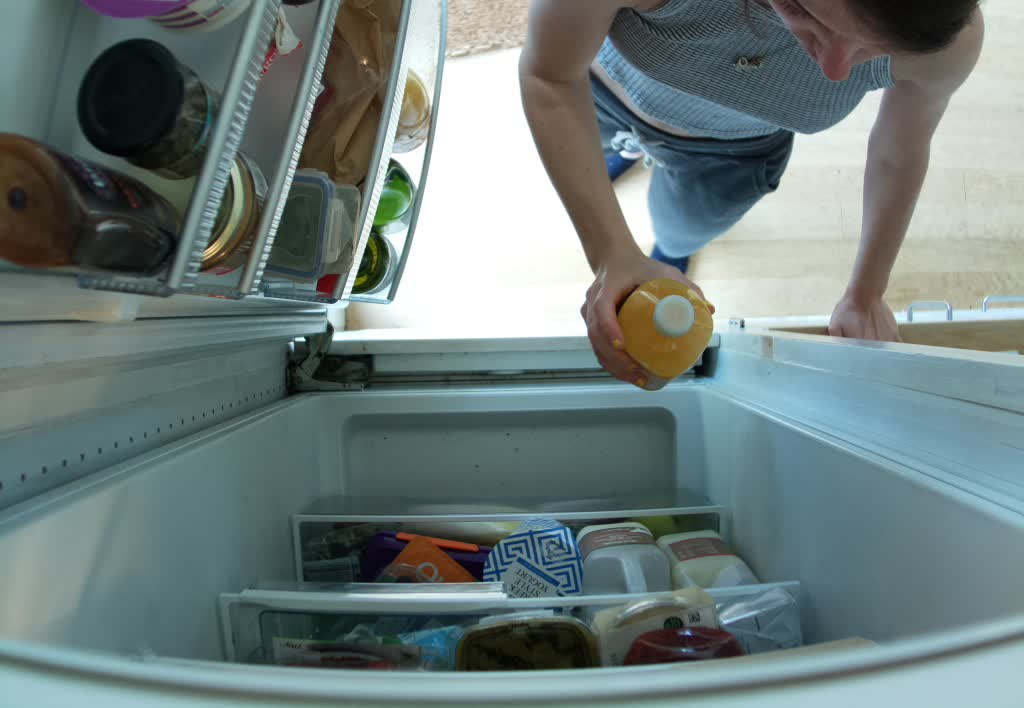juice: (610, 273, 719, 387)
